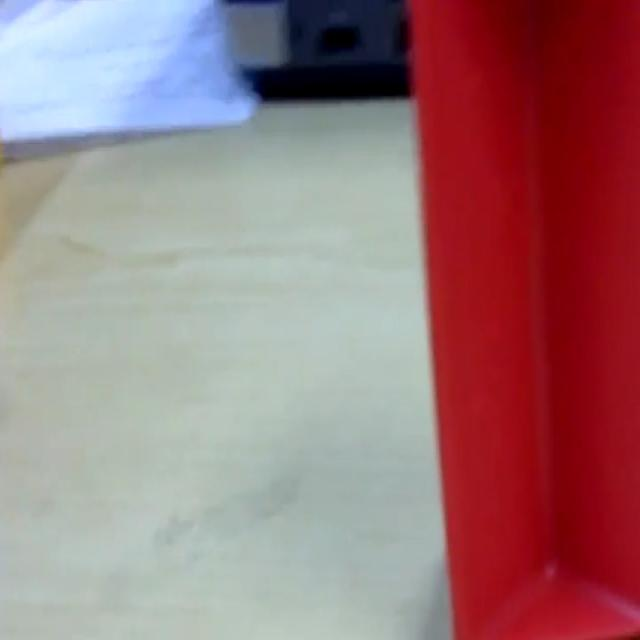red_block: (406, 0, 638, 636)
